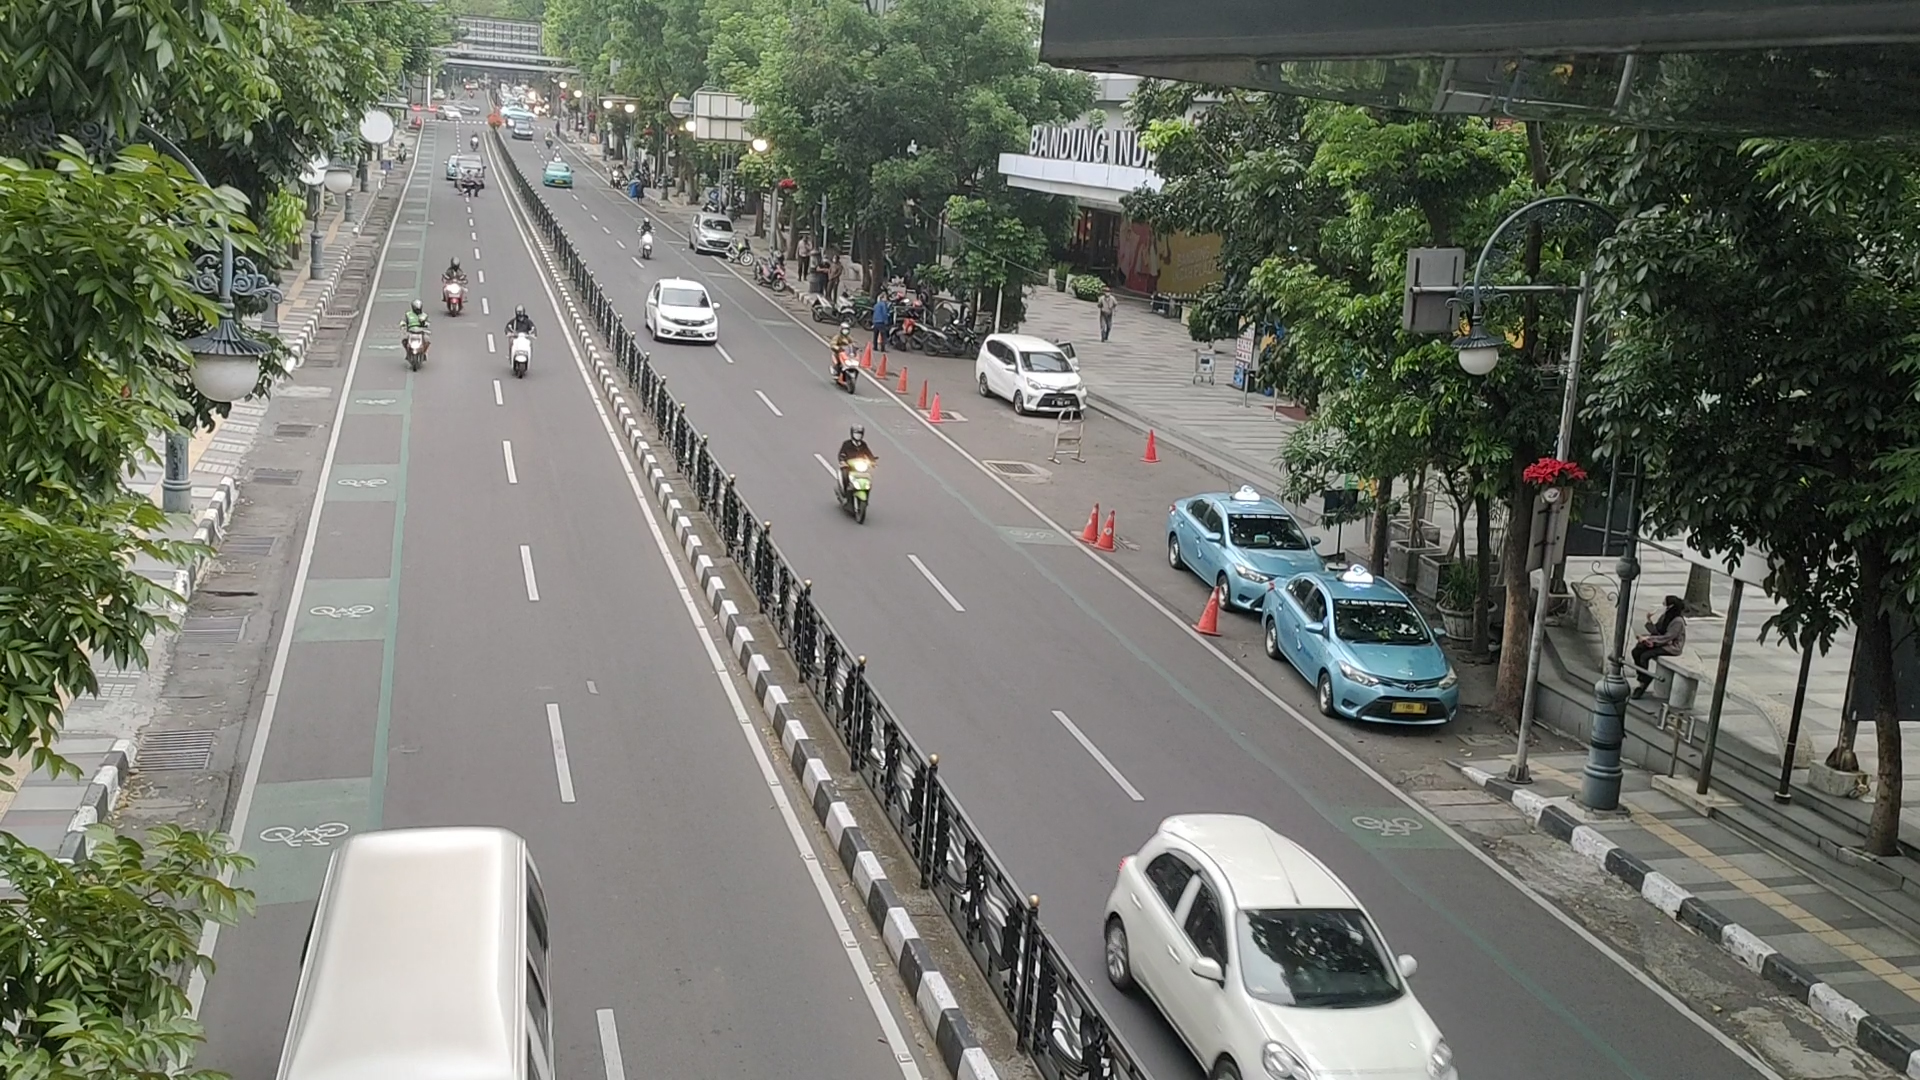mobil: (1211, 891, 1462, 1080), (1309, 595, 1460, 732), (1014, 345, 1093, 417), (647, 285, 720, 349)
motor: (833, 422, 880, 527), (401, 301, 433, 375), (506, 306, 535, 381)
